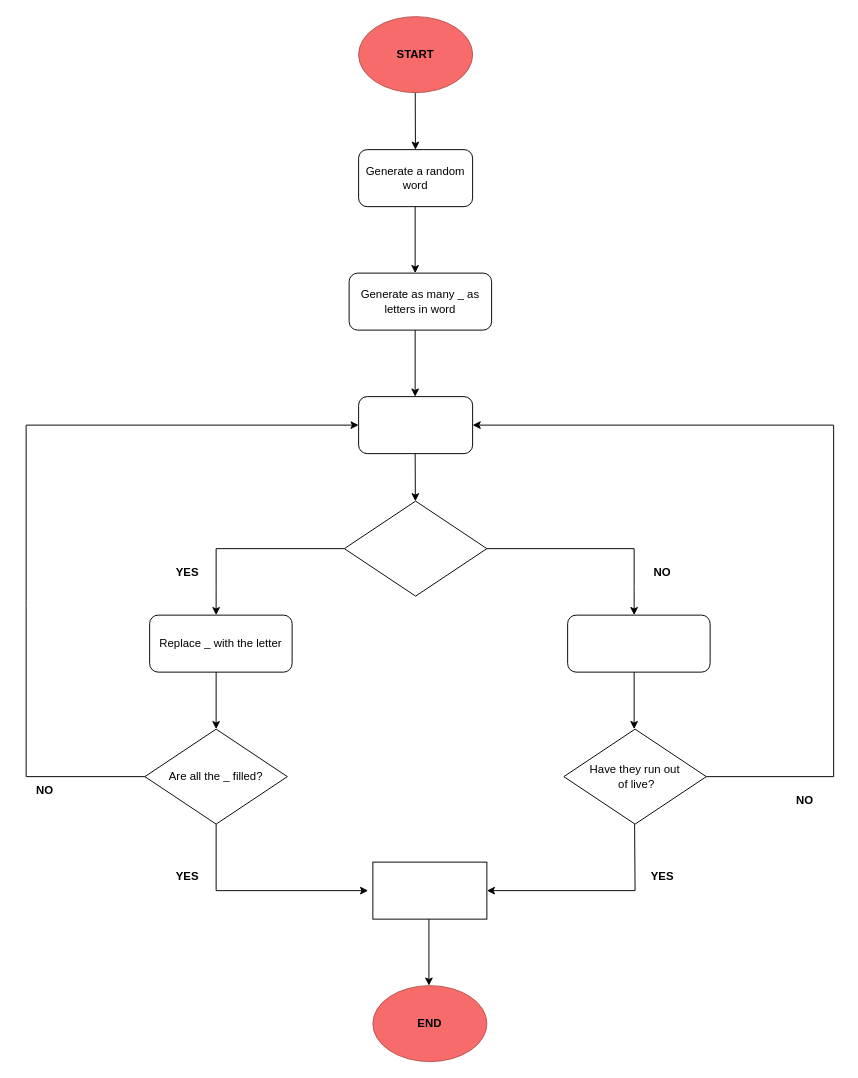
Image size: 858x1078. Some labels were removed from this diagram. The centre of each missing label's shape, as x and y in pixels:
"Game Over": [429,890]
Ask user to guess a letter: [415,425]
Is the guess a letter in the word?: [415,548]
Lose a life: [638,643]
